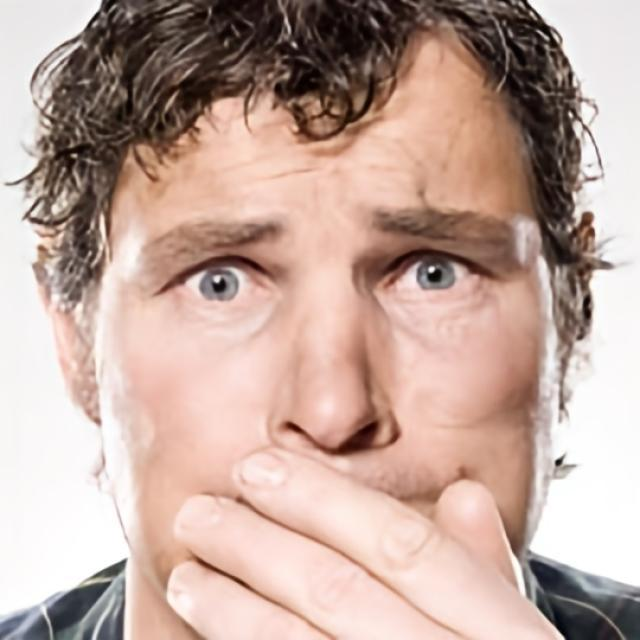Fear: (92, 27, 562, 640)
